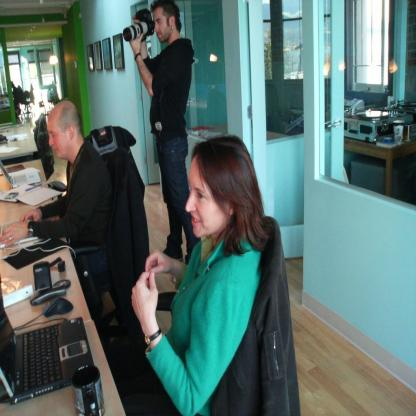board: (0, 291, 88, 406), (0, 161, 42, 189), (0, 220, 38, 248)
